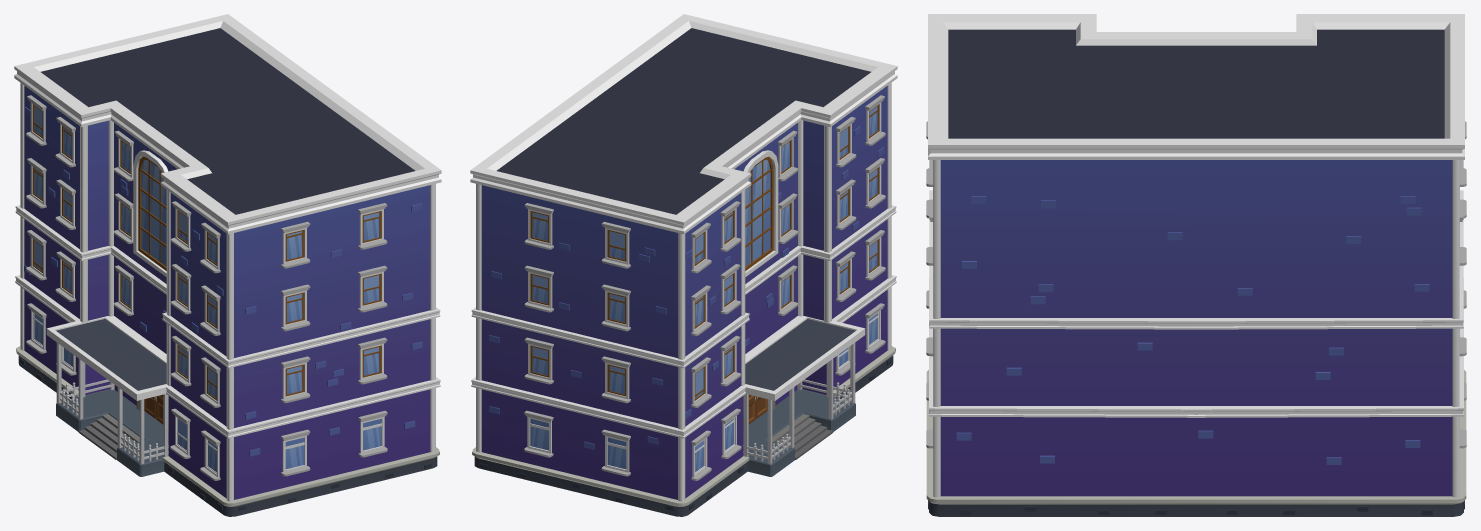
File: Building_5_3_K.fbx
The picture shows the model from 3 angles, left to right: view 1: azimuth 30°, elevation 25°; view 2: azimuth 150°, elevation 25°; view 3: azimuth 270°, elevation 25°; orthographic projection. The views are drawn at different scales.
Visible parts, largest first — view 1: Building_5_3_K; view 2: Building_5_3_K; view 3: Building_5_3_K.
Boxes of the visible parts, left/top/right/bottom form: Building_5_3_K: left=14, top=14, right=441, bottom=516; Building_5_3_K: left=470, top=14, right=897, bottom=516; Building_5_3_K: left=926, top=14, right=1466, bottom=516.
Bounding box in the file's own units: 1251 × 1450 × 1908.
